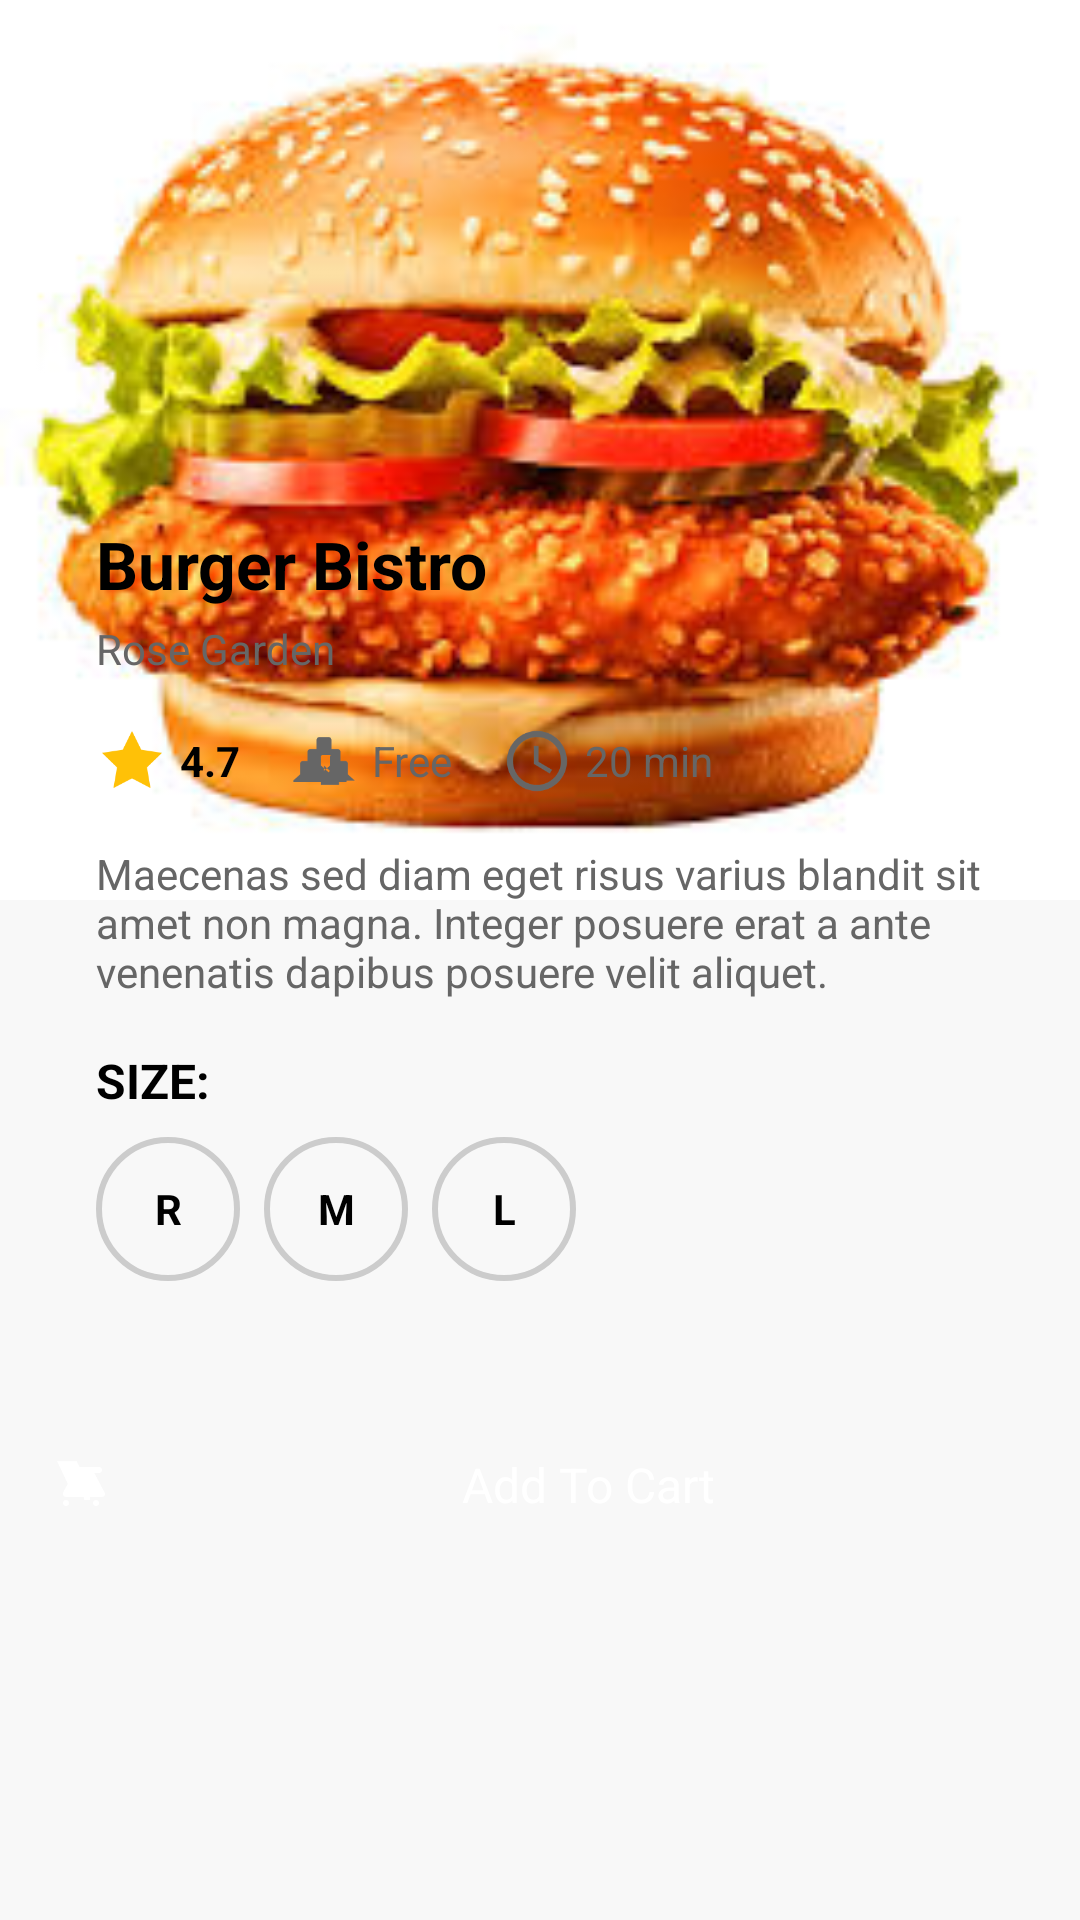

Icons on this 1080 × 1920 Android screen, each with the point to tap as [x,y]:
star: [132,759]
time: [537,761]
